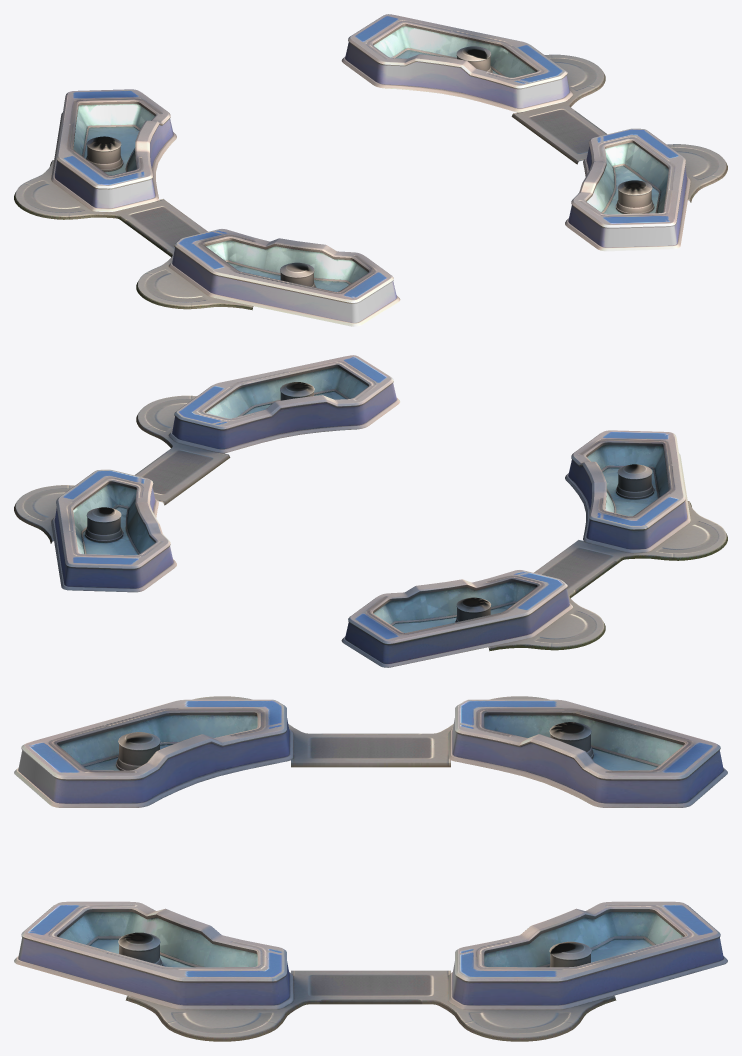
Rendered from pref_sm_4v4beachtech_bk_waterblock_c02a_lv1.fbx.
3 renders of one model, top to bottom at view 1: azimuth 30°, elevation 25°; view 2: azimuth 150°, elevation 25°; view 3: azimuth 270°, elevation 25°, orthographic. The views are drawn at different scales.
Parts seen in each view (by area): view 1: sm_4v4beachtech_bk_waterblock_c02a_lv1; view 2: sm_4v4beachtech_bk_waterblock_c02a_lv1; view 3: sm_4v4beachtech_bk_waterblock_c02a_lv1.
Boxes of the visible parts, box(x1,y1,x2,y2) form: sm_4v4beachtech_bk_waterblock_c02a_lv1: box(14, 14, 727, 326); sm_4v4beachtech_bk_waterblock_c02a_lv1: box(14, 355, 727, 667); sm_4v4beachtech_bk_waterblock_c02a_lv1: box(14, 696, 727, 1041).
Size of the model in its own units: 39.66 by 2.07 by 34.89.
Materials: 1 (1 with a texture image).
